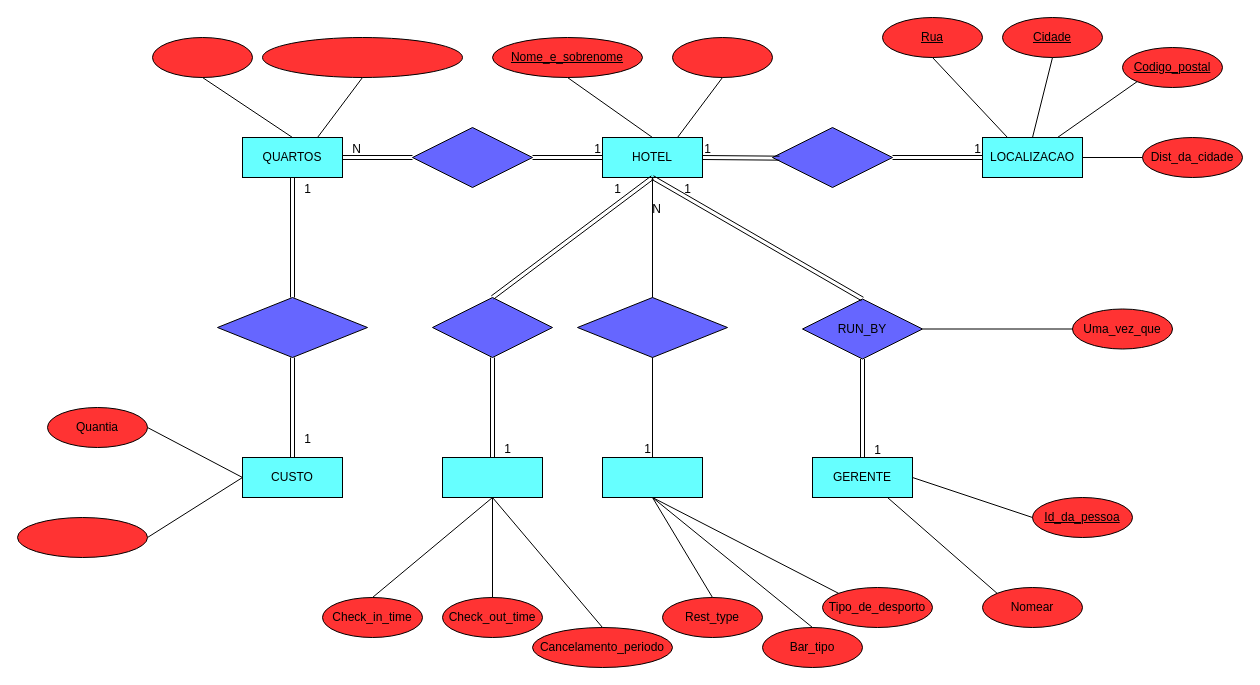
Image size: 1260x685. Some labels were removed from this diagram. The centre of each missing label's shape, as x and y in pixels:
"Classificacao" belongs at point (722, 57).
"CUSTO_POR_NOITE" belongs at point (292, 327).
"HAS_FACILIDADES" belongs at point (652, 327).
"HAS_POLICY" belongs at point (492, 327).
"HAS_ROOMS" belongs at point (472, 157).
"INSTALACOES" belongs at point (652, 477).
"IS_AT" belongs at point (832, 157).
"POLITICA" belongs at point (492, 477).
"Porcentagem_de_disponibilidade" belongs at point (362, 57).
"Tipo_de" belongs at point (202, 57).
"Tipos_de_pagamento" belongs at point (82, 537).
